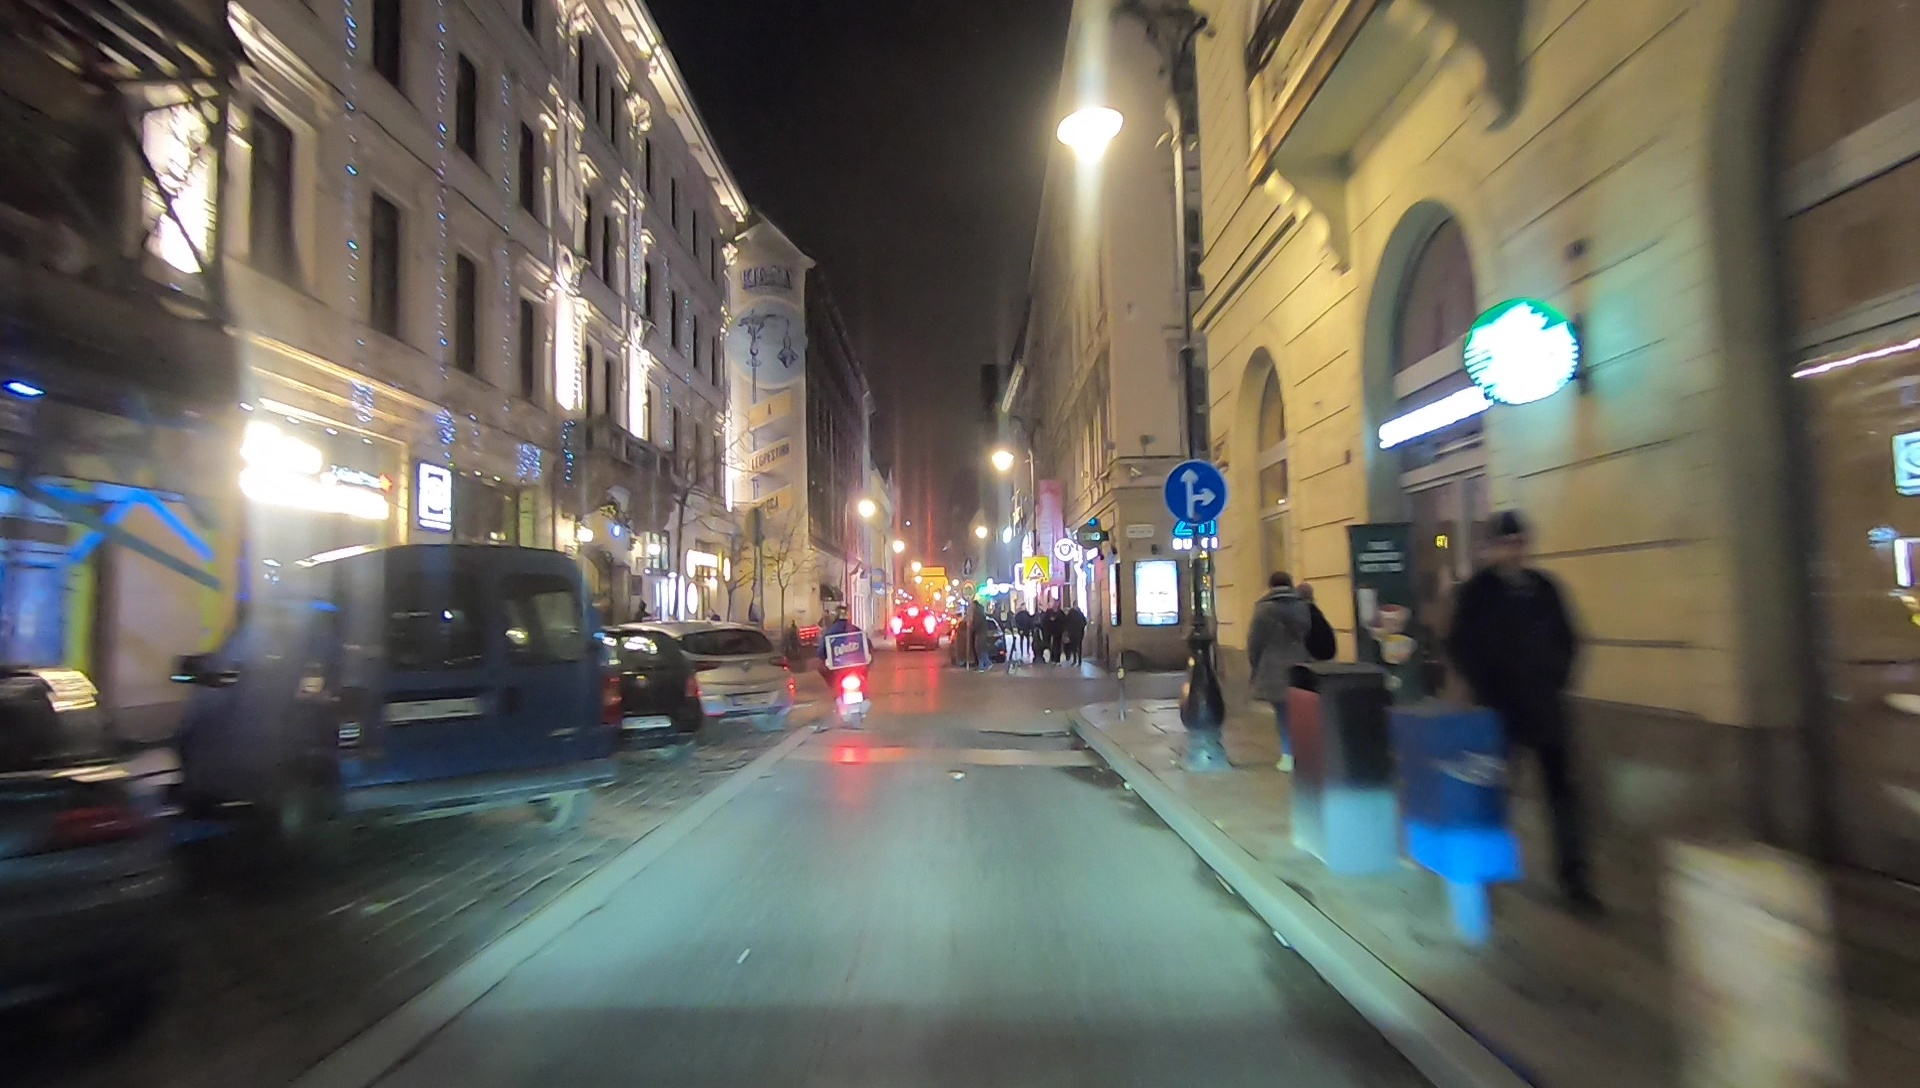person: (1443, 517, 1608, 899), (1256, 576, 1328, 776), (1068, 604, 1087, 665), (1050, 602, 1065, 664), (1015, 601, 1033, 653)
